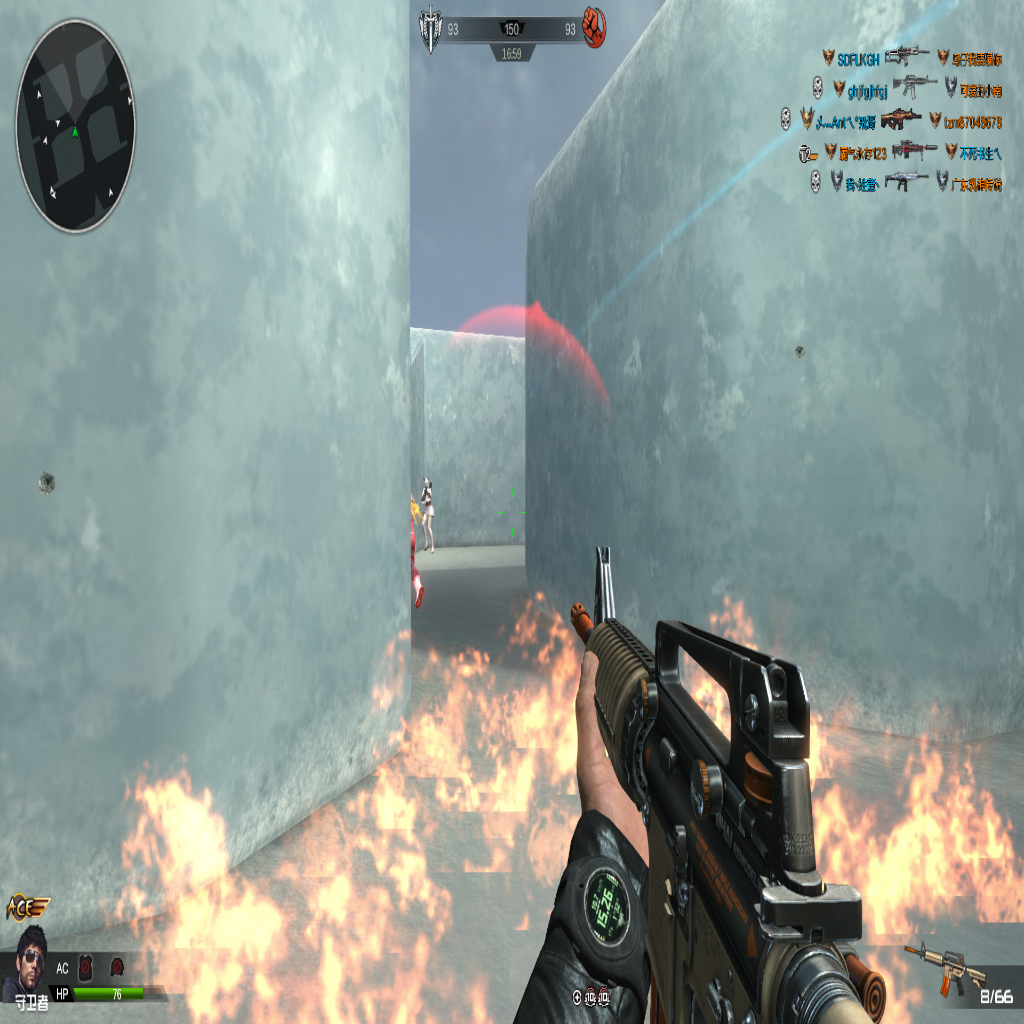tt: (410, 485, 425, 603), (419, 474, 435, 555)
